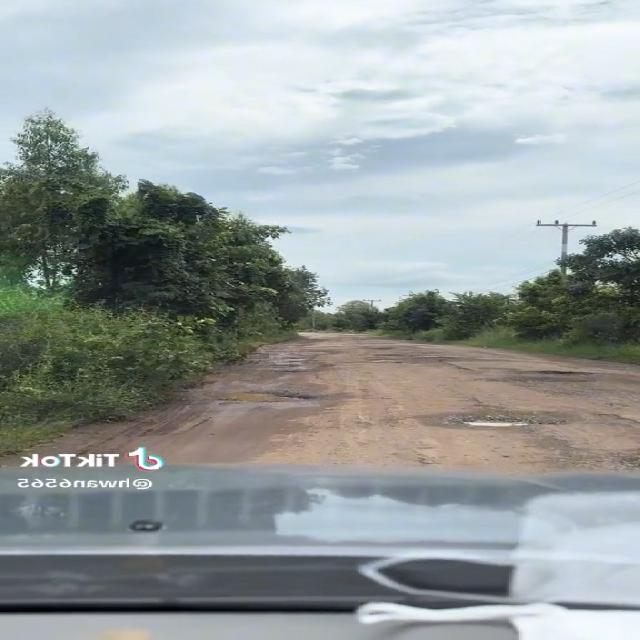Poth-hole: (343, 384, 564, 477)
